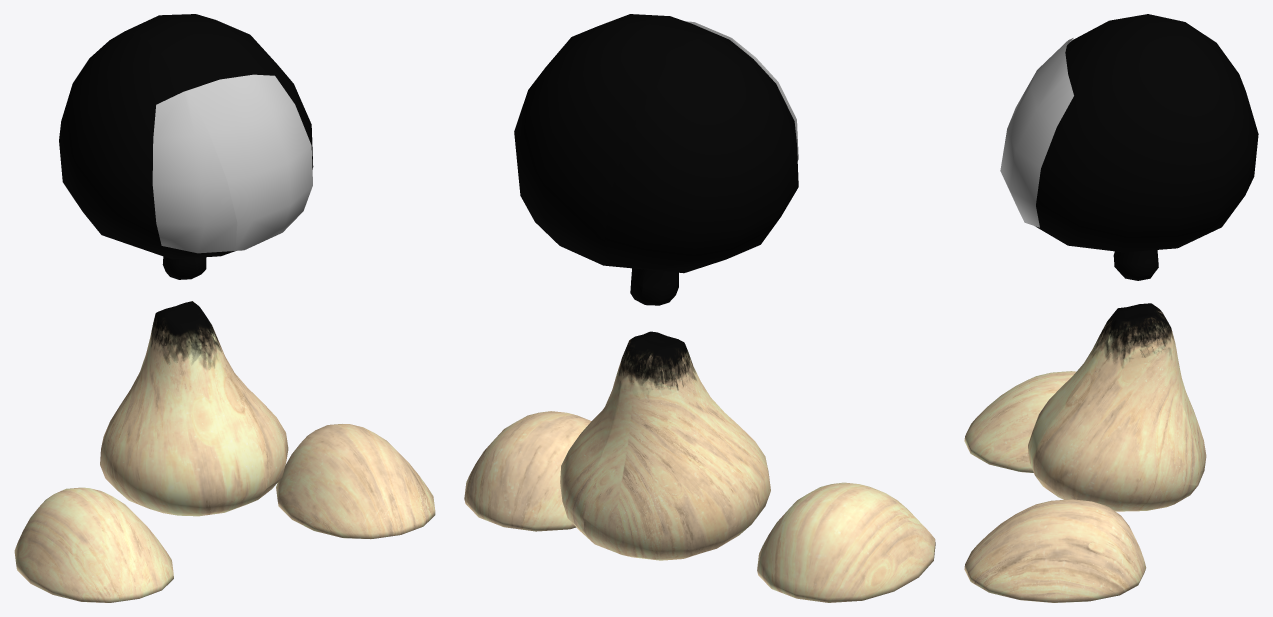
File: matchFireSliced.fbx
3 views of the same model, side by side, from view 1: azimuth 30°, elevation 25°; view 2: azimuth 150°, elevation 25°; view 3: azimuth 270°, elevation 25° (orthographic). The views are drawn at different scales.
Parts seen in each view (by area): view 1: bodySlicedRight, bodySlicedLeft; view 2: bodySlicedRight, bodySlicedLeft; view 3: bodySlicedLeft, bodySlicedRight.
Part boxes in pixels (box(x1,y1,x2,y2)): bodySlicedRight: box(14, 30, 266, 602); bodySlicedLeft: box(127, 14, 435, 539); bodySlicedRight: box(584, 32, 935, 602); bodySlicedLeft: box(464, 14, 729, 538); bodySlicedLeft: box(964, 14, 1258, 602); bodySlicedRight: box(964, 14, 1241, 497).
Bounding box in the file's own units: 83.86 × 99.89 × 54.52.
